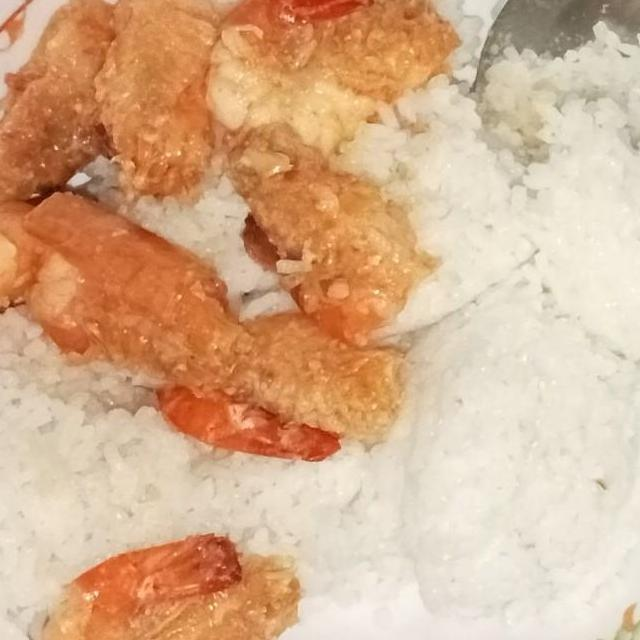com: (312, 17, 640, 640), (0, 299, 214, 640), (200, 438, 428, 613)
tom: (216, 120, 448, 358), (185, 0, 465, 176), (144, 308, 412, 471), (35, 529, 308, 640), (83, 0, 228, 204), (0, 0, 132, 215), (0, 182, 66, 361)
